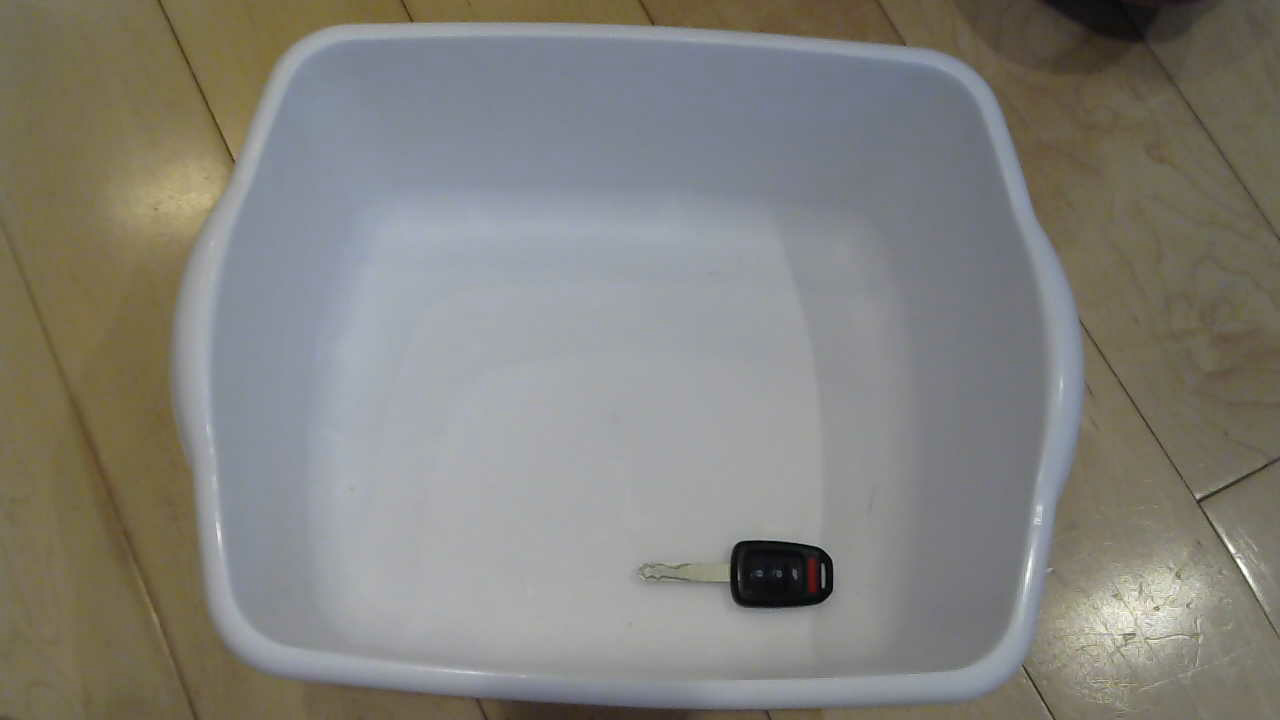key: (620, 527, 846, 628)
